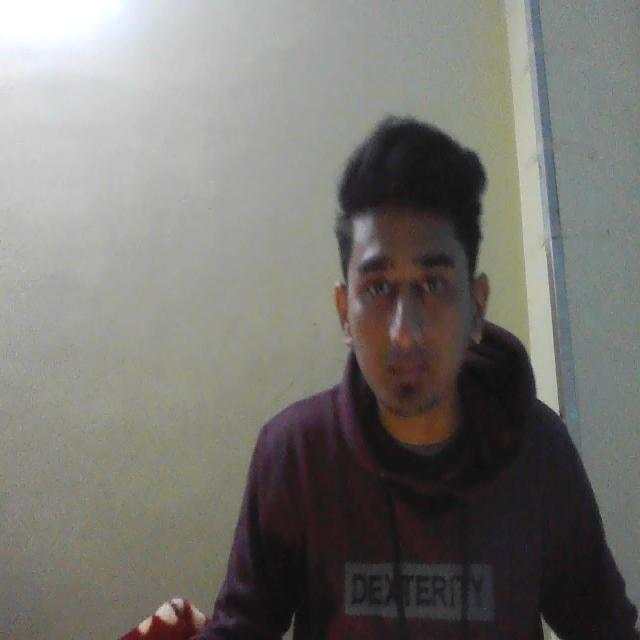real: (327, 121, 499, 447)
